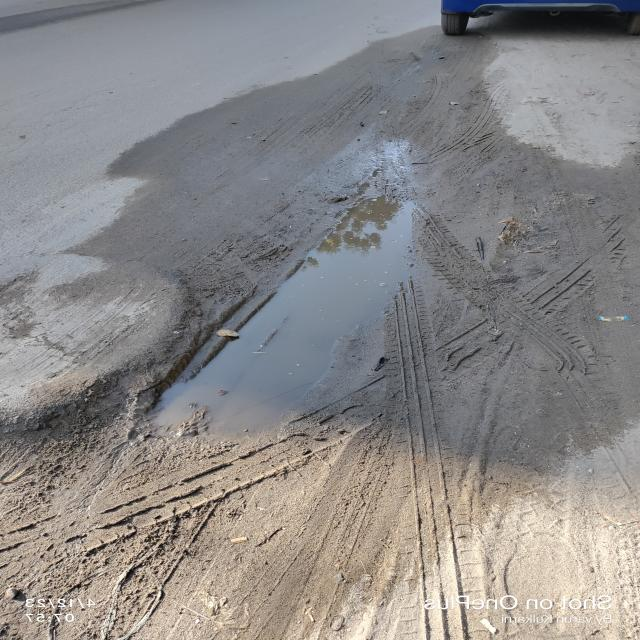Puddle pothole: (161, 131, 416, 500)
